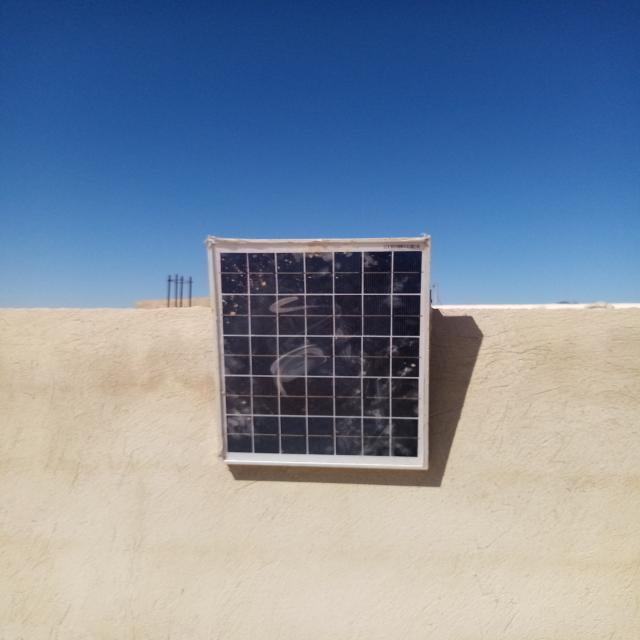faulty: (210, 239, 428, 469)
